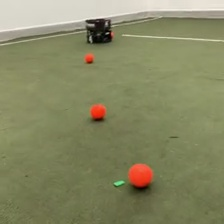ball: (128, 162, 155, 189), (89, 102, 107, 121), (85, 51, 94, 63)
robot: (85, 17, 112, 44)
